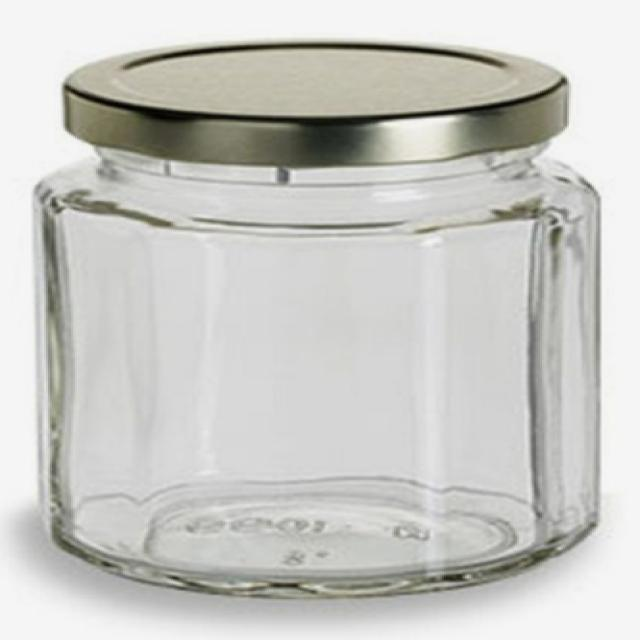ToplesKaca: (29, 37, 605, 600)
